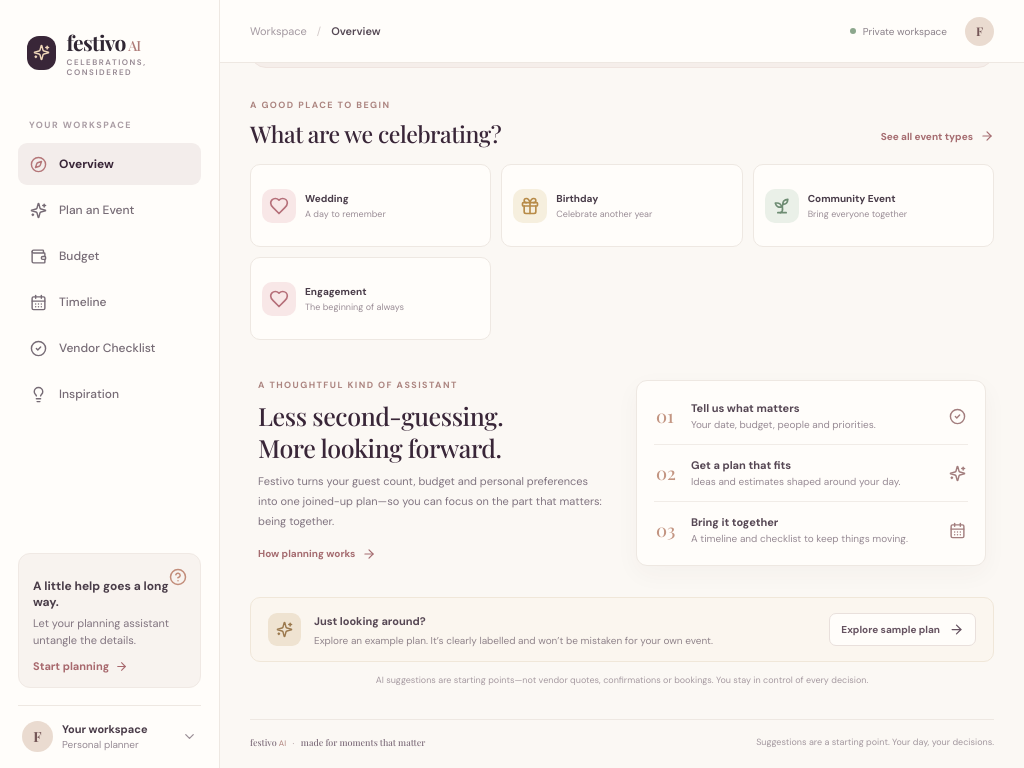
Test: planning workflow › toggles timeline milestones independently of the vendor checklist
(page scrolled)
Click the button "Explore sample plan" at (903, 629), box [829,613,976,646]
(page scrolled)
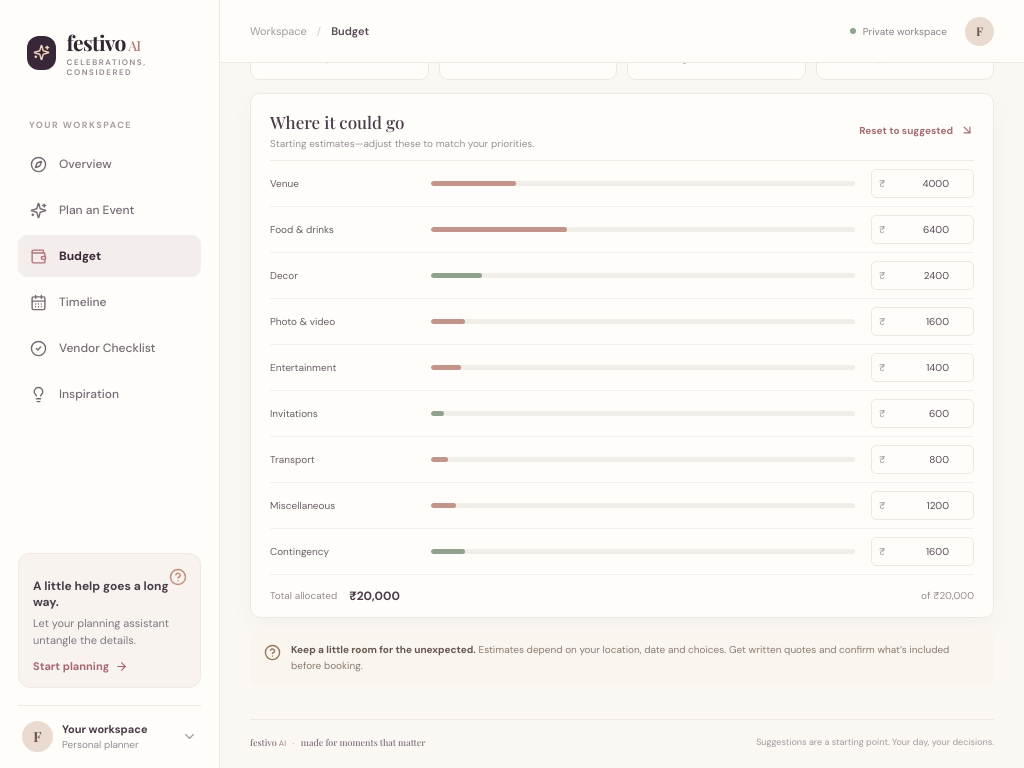
Click the button "Timeline" at (110, 302), box [18,281,201,323]
(page scrolled)
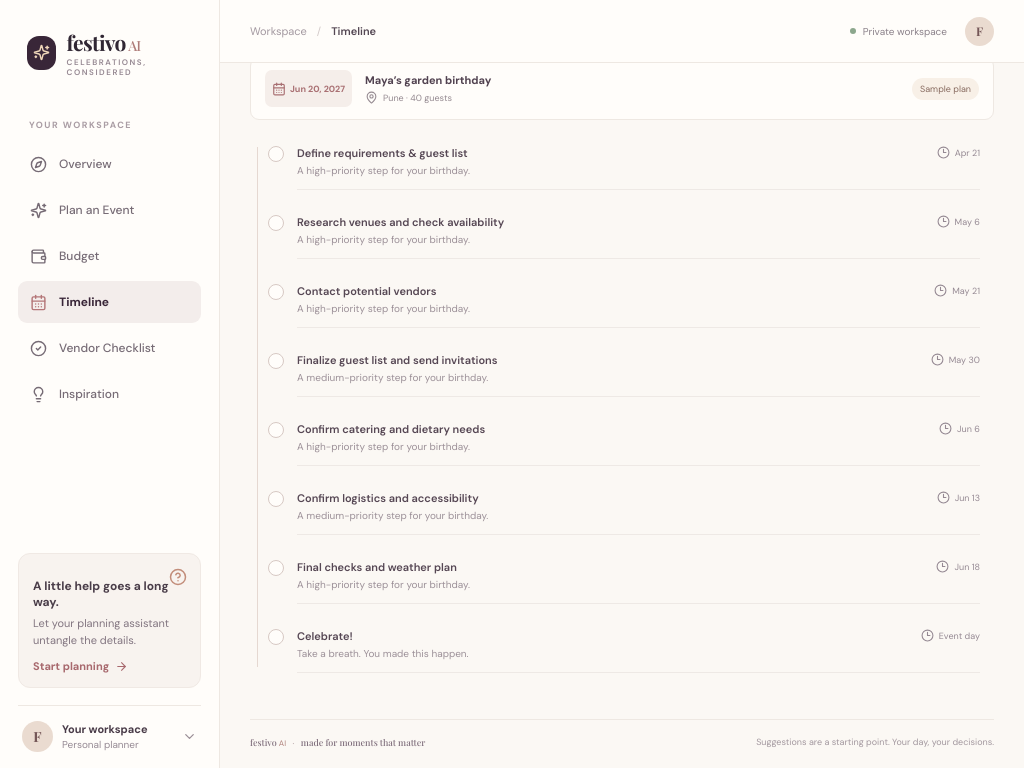
Click the button named "Mark complete: Define requirements & guest list" at (276, 154), box [268,146,284,162]
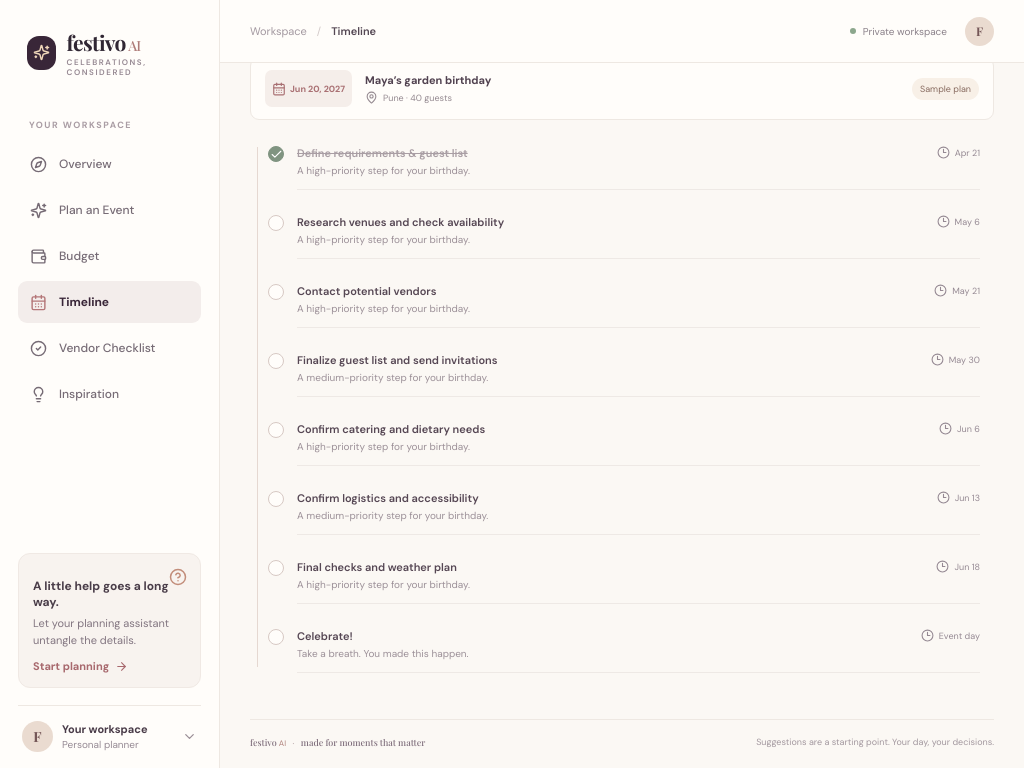
Result: the element named "Mark incomplete: Define requirements & guest list" has class "complete" at [268,134,994,203]
Click the button "Vendor Checklist" at (110, 348), box [18,327,201,369]
(page scrolled)
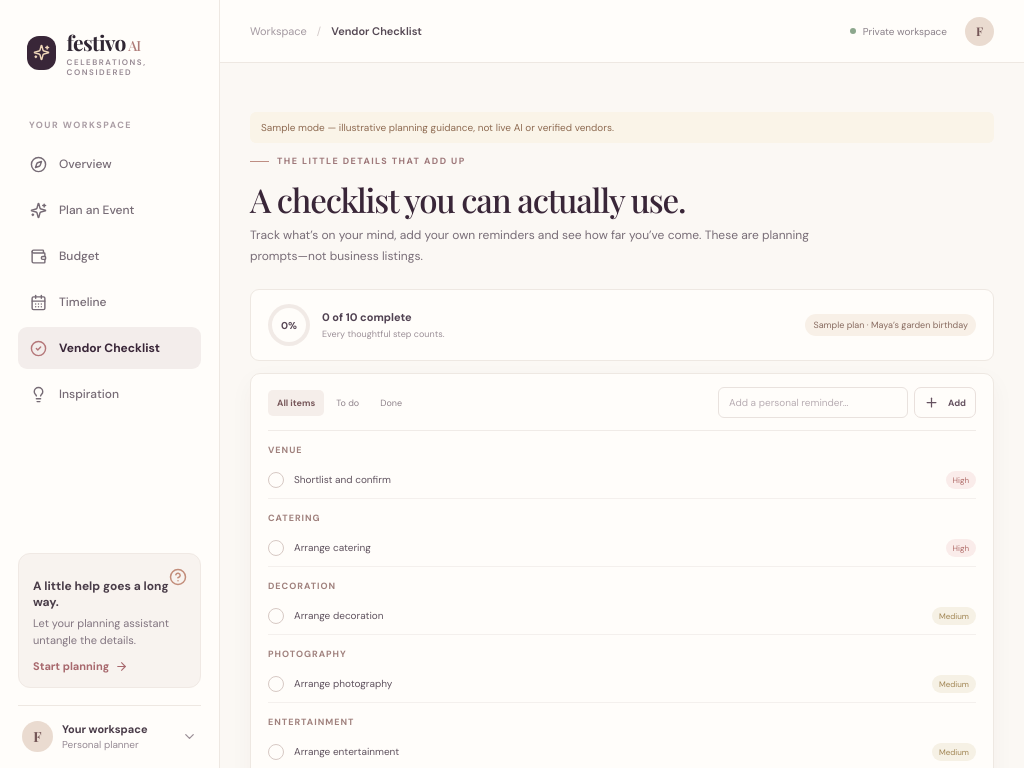
Result: the text "0 of 10 complete" is shown at [322,310,412,324]
